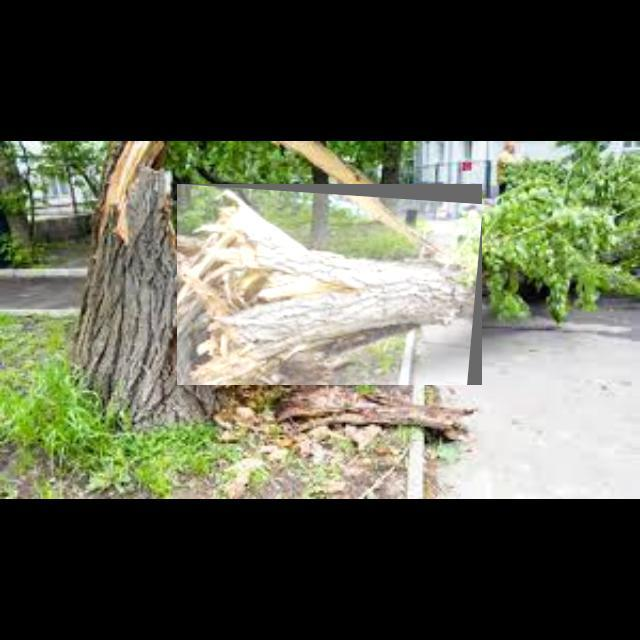fallen_tree: (177, 184, 483, 386)
